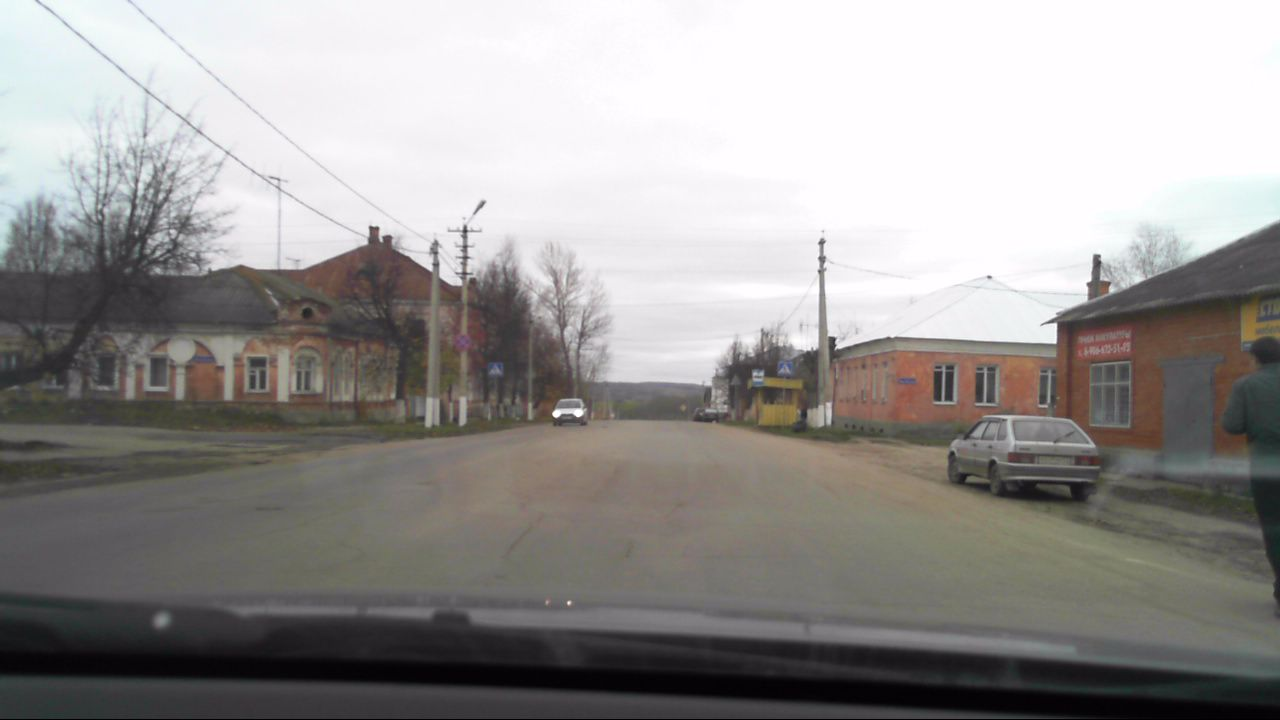No Parking: (455, 333, 472, 350)
